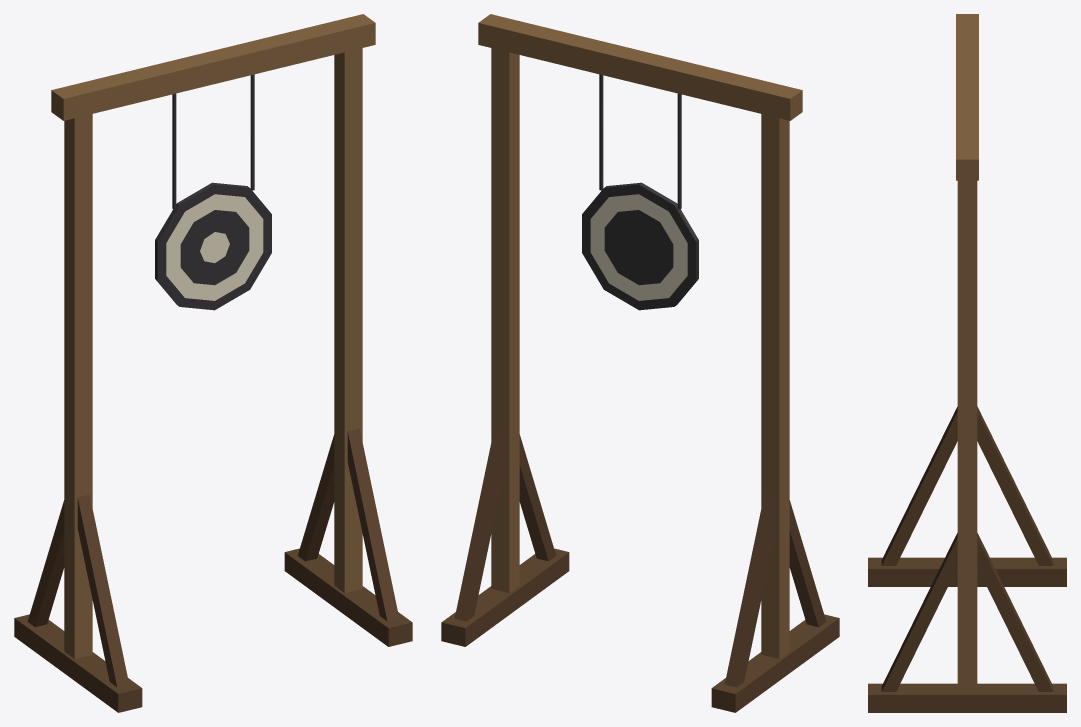
File: target_gong.glb
3 renders of one model, left to right at view 1: azimuth 30°, elevation 25°; view 2: azimuth 150°, elevation 25°; view 3: azimuth 270°, elevation 25°, orthographic. The views are drawn at different scales.
Visible parts, largest first — view 1: Body, Board; view 2: Body, Board; view 3: Body.
Part boxes in pixels (<box>): Body: <box>14,14,412,712</box>; Board: <box>155,74,271,310</box>; Body: <box>441,14,839,712</box>; Board: <box>582,74,698,310</box>; Body: <box>868,14,1066,712</box>.
Size of the model in its own units: 1.04 by 1.86 by 0.6.
